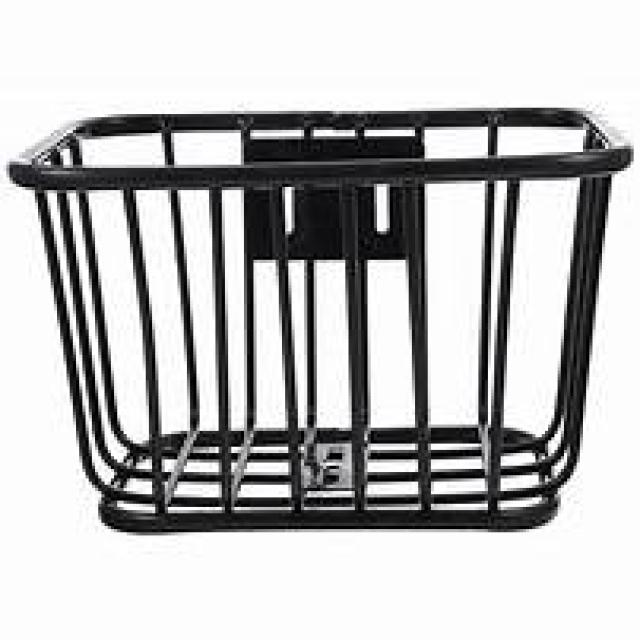basket: (6, 106, 631, 532)
